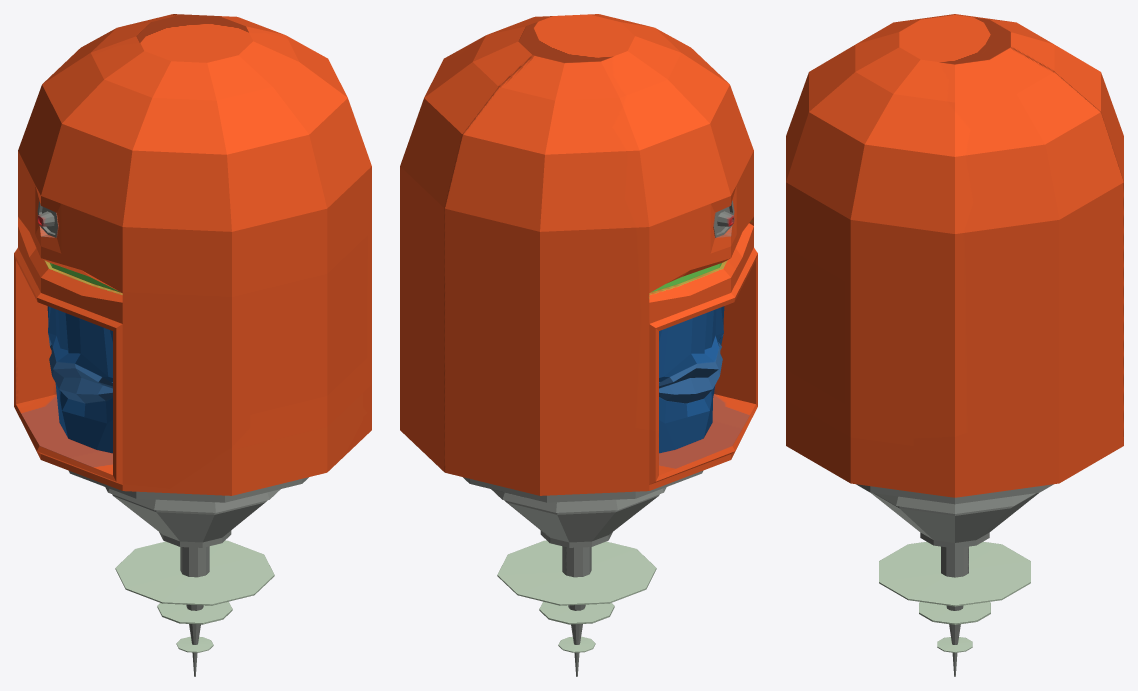
File: robot 1.fbx
3 renders of one model, left to right at view 1: azimuth 30°, elevation 25°; view 2: azimuth 150°, elevation 25°; view 3: azimuth 270°, elevation 25°, orthographic.
Parts seen in each view (by area): view 1: pCylinder13; view 2: pCylinder13; view 3: pCylinder13.
Boxes of the visible parts, x1,y1,x2,y2 form: pCylinder13: [14, 14, 371, 676]; pCylinder13: [400, 14, 757, 676]; pCylinder13: [786, 14, 1123, 676].
Size of the model in its own units: 0.7092 by 1.38 by 0.6658.
